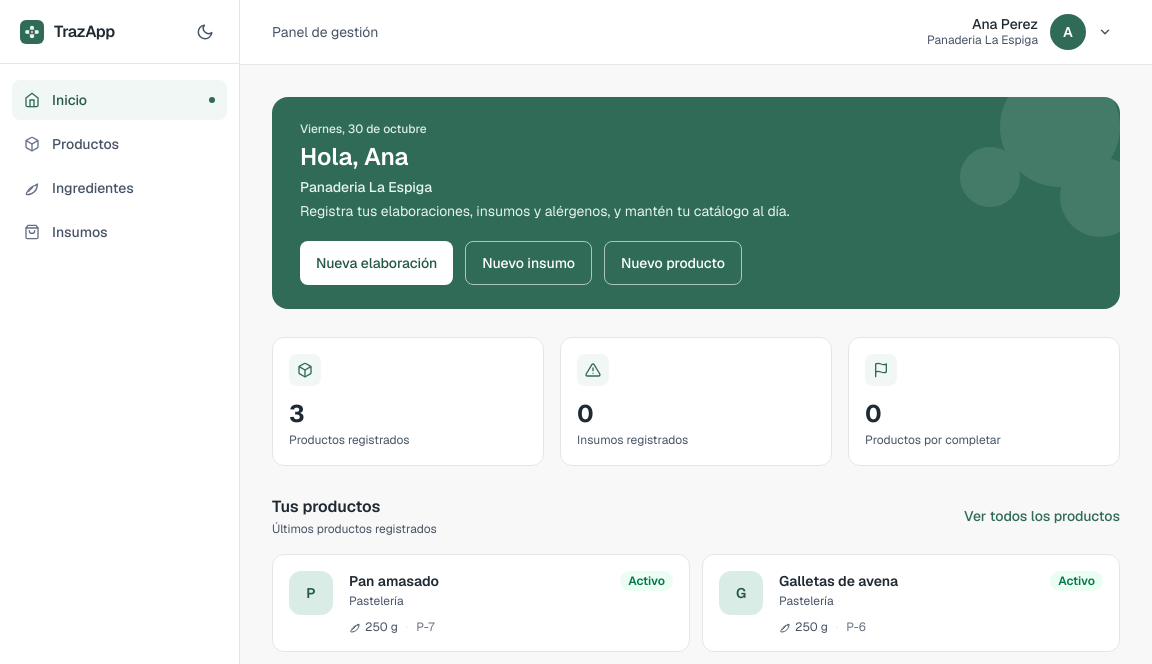
Dashboard: acción «Nueva elaboración» (HT06-07) › abre el diálogo con un selector que solo ofrece los productos con formulación
Click the button "Nueva elaboración".
click(377, 263)  # box [300,241,453,285]
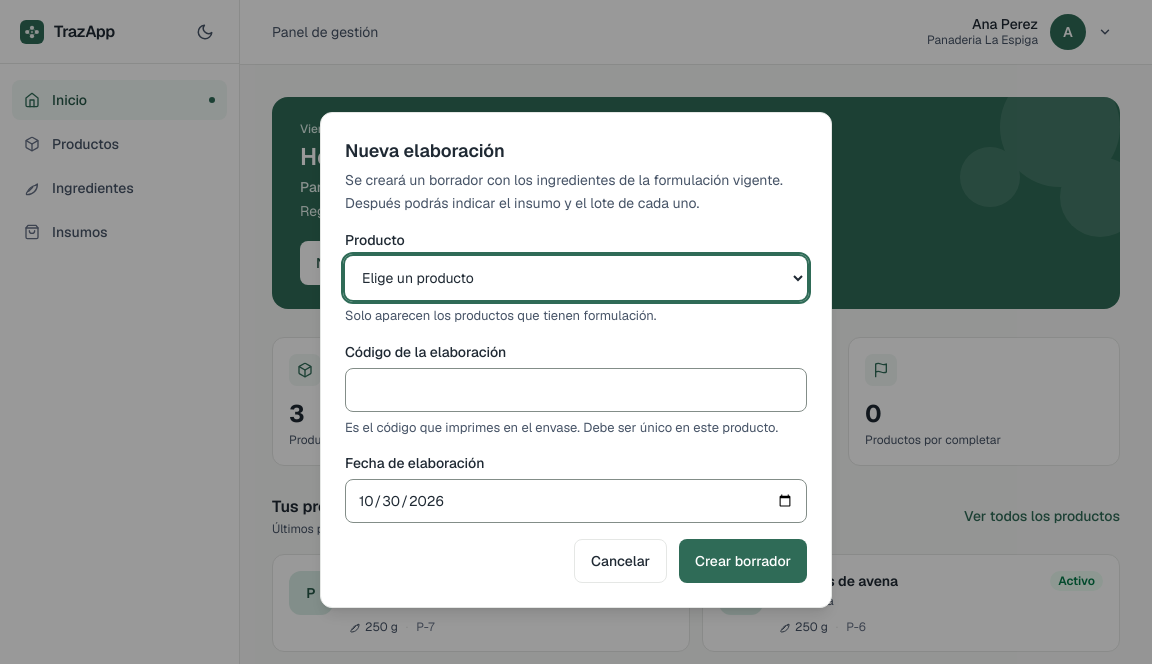
Expected: the option does not show "Galletas de avena"
Expected: the text "Solo aparecen los productos que tienen formulación." is shown, [345,307,656,324]
